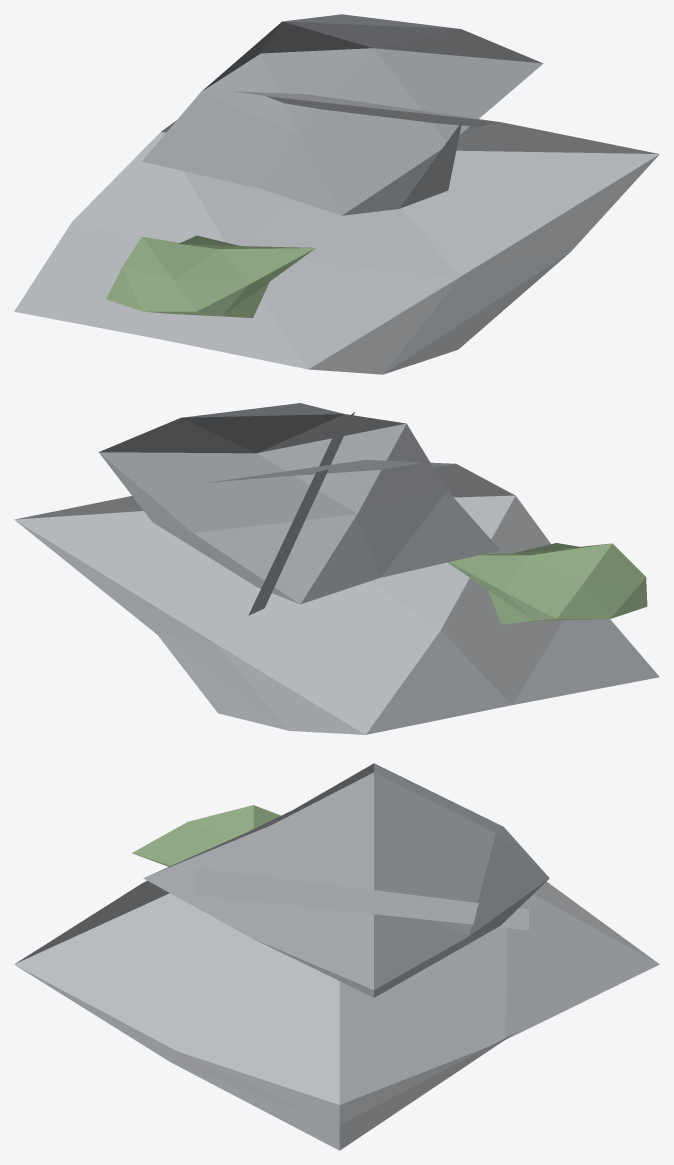
File: rock_granite.glb
3 renders of one model, top to bottom at view 1: azimuth 30°, elevation 25°; view 2: azimuth 150°, elevation 25°; view 3: azimuth 270°, elevation 25°, orthographic. The views are drawn at different scales.
Parts seen in each view (by area): view 1: lod0; view 2: lod0; view 3: lod0.
Boxes of the visible parts, x1,y1,x2,y2 form: lod0: [14, 14, 659, 374]; lod0: [14, 403, 659, 734]; lod0: [14, 763, 659, 1150].
Size of what is drawn, in the model's own units: 2.35 by 1.15 by 1.88.
